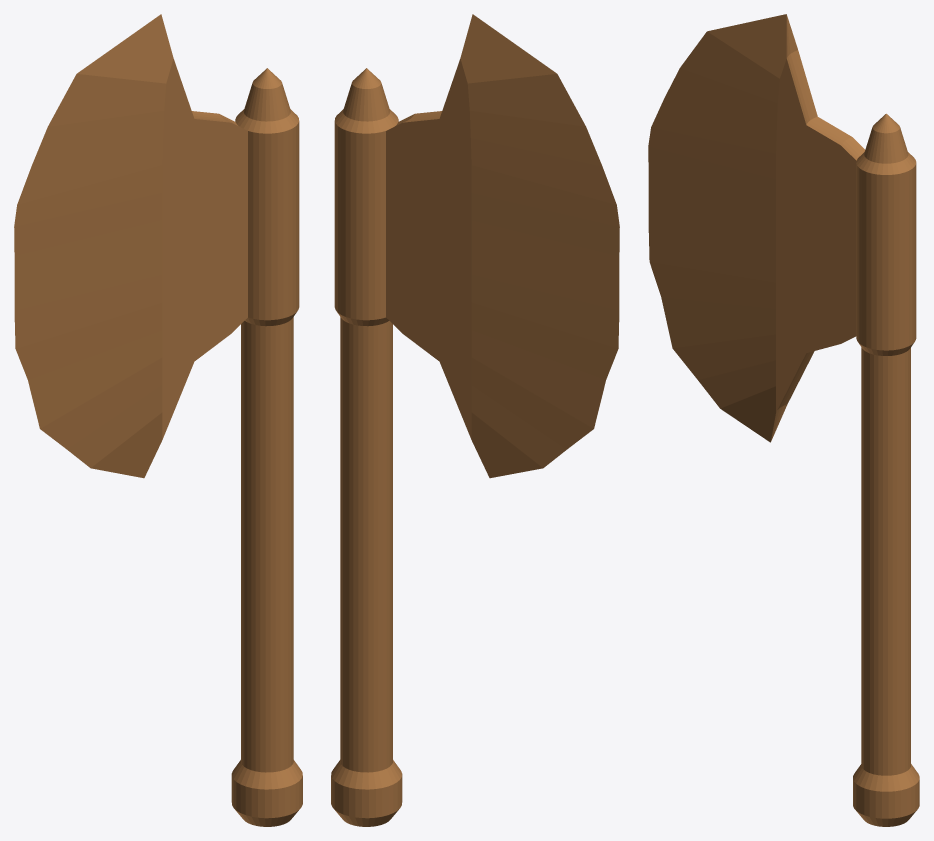
The model's file is Axe1.0.fbx.
3 renders of one model, left to right at view 1: azimuth 30°, elevation 25°; view 2: azimuth 150°, elevation 25°; view 3: azimuth 330°, elevation 25°, orthographic. The views are drawn at different scales.
Parts seen in each view (by area): view 1: Axe; view 2: Axe; view 3: Axe.
Boxes of the visible parts, box(x1,y1,x2,y2) form: Axe: box(14, 14, 302, 826); Axe: box(331, 14, 619, 826); Axe: box(648, 14, 919, 826).
Bounding box in the file's own units: 197 × 551 × 42.74.
